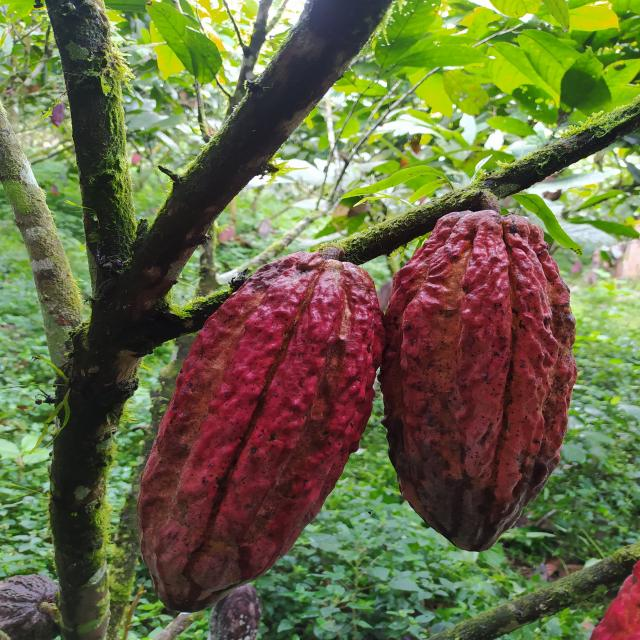Fitoftora: (382, 209, 574, 552), (208, 586, 268, 640)
Sana: (136, 253, 384, 612)
